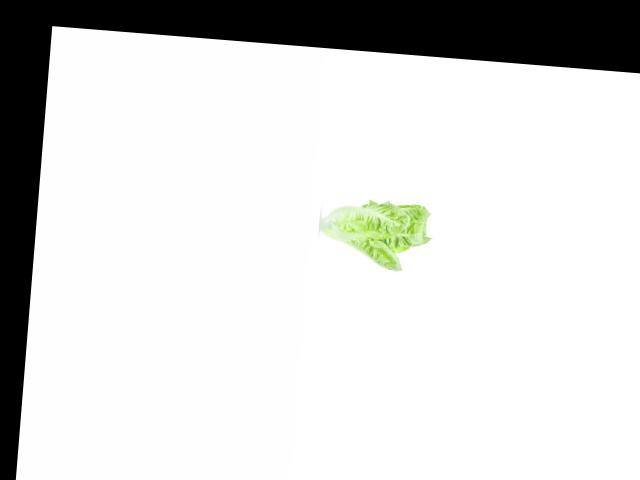lettuce: (321, 192, 435, 274)
